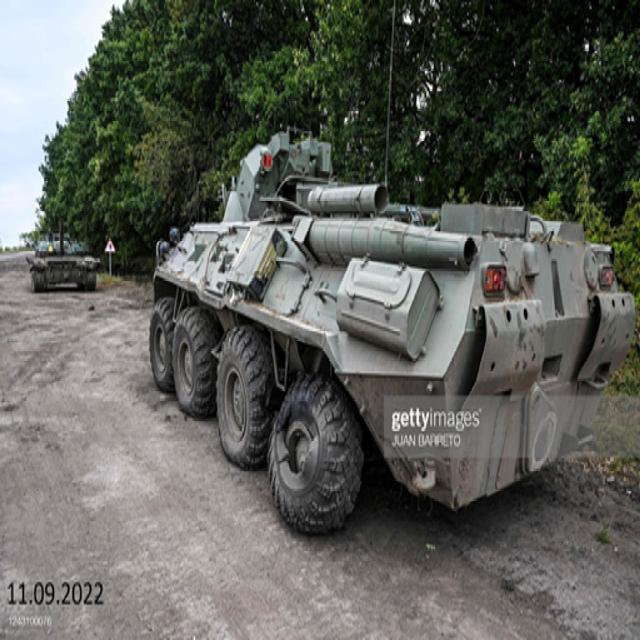APC-IFV: (135, 118, 635, 531)
TANK: (21, 214, 101, 296)
